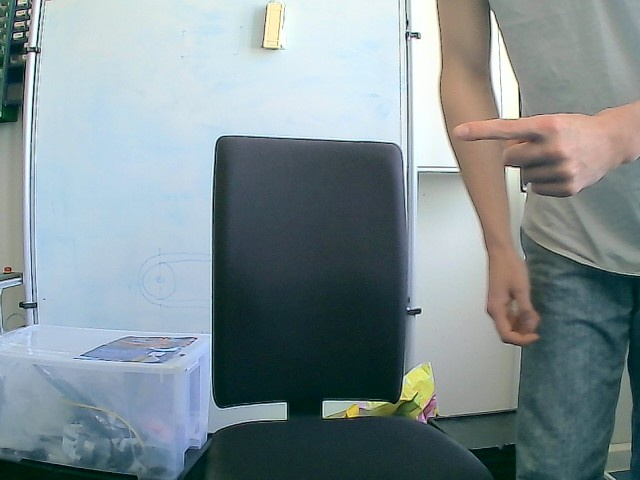no_gesture: (482, 252, 543, 347)
right: (450, 110, 617, 198)
